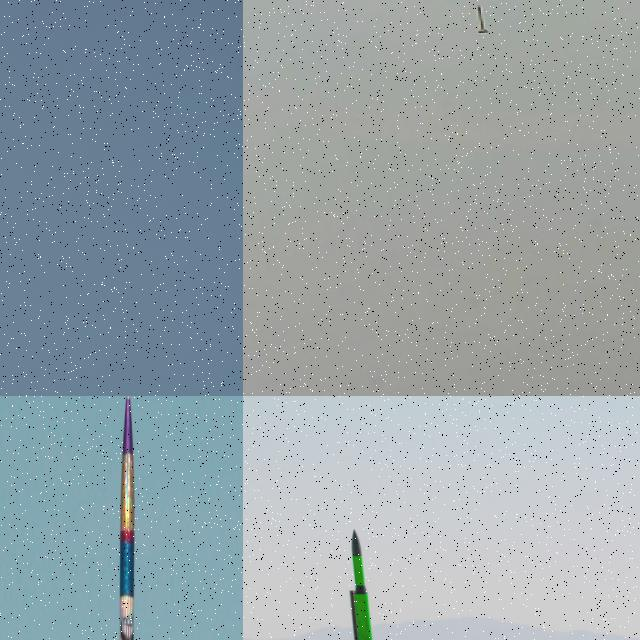Rocket: (105, 396, 146, 640), (348, 529, 390, 640), (478, 5, 488, 34)
